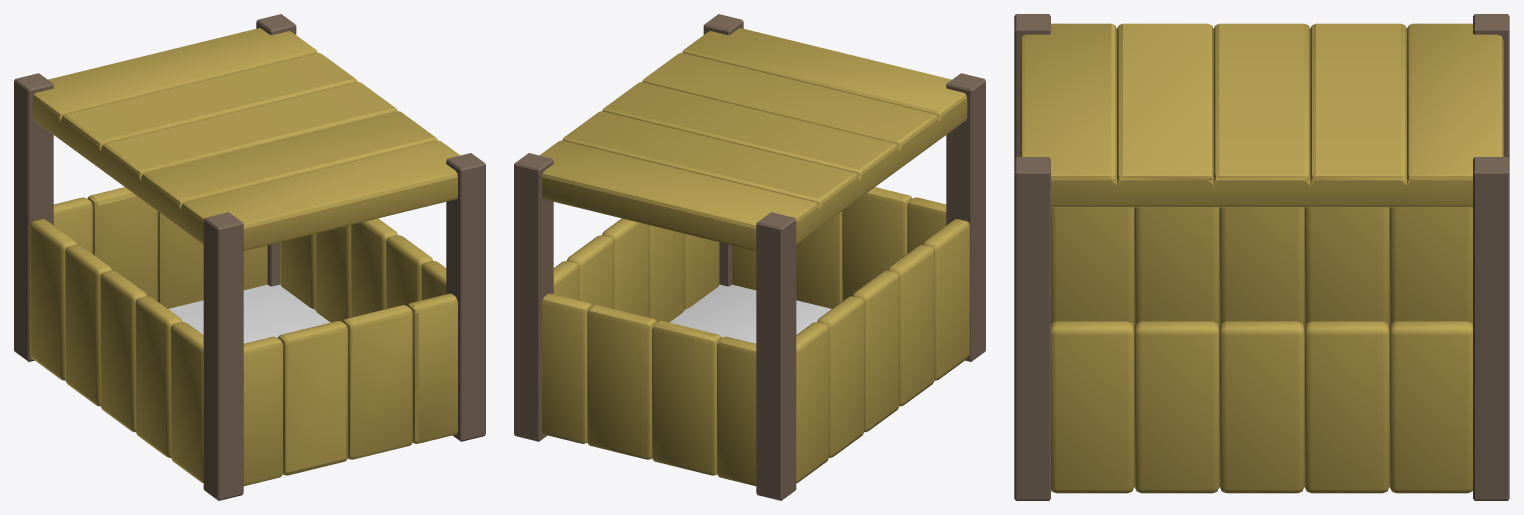
File: Cobertizo.fbx
The picture shows the model from 3 angles, left to right: view 1: azimuth 30°, elevation 25°; view 2: azimuth 150°, elevation 25°; view 3: azimuth 270°, elevation 25°; orthographic projection. The views are drawn at different scales.
Parts seen in each view (by area): view 1: Cobertizo; view 2: Cobertizo; view 3: Cobertizo.
Boxes of the visible parts, <box> form: Cobertizo: <box>14,14,485,500</box>; Cobertizo: <box>514,14,985,500</box>; Cobertizo: <box>1014,14,1509,500</box>.
Bounding box in the file's own units: 85.64 × 63 × 64.8.
